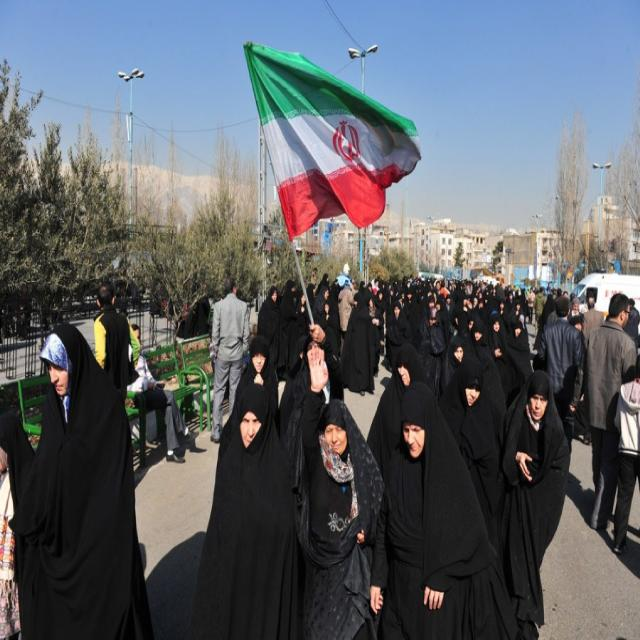body: (7, 316, 157, 639), (369, 381, 488, 640), (186, 380, 298, 639), (291, 396, 388, 639), (498, 367, 572, 630), (584, 291, 639, 535), (439, 355, 501, 552), (126, 322, 198, 464), (367, 343, 427, 485), (538, 294, 585, 455), (276, 331, 311, 542), (209, 276, 251, 446), (93, 281, 142, 403), (227, 334, 281, 444), (612, 352, 640, 554), (0, 444, 21, 640), (359, 271, 470, 307), (301, 324, 345, 406), (413, 303, 446, 402), (345, 290, 374, 394), (568, 314, 590, 446), (506, 318, 533, 412), (469, 278, 526, 318), (256, 284, 280, 375), (489, 310, 511, 404), (471, 318, 495, 396), (277, 277, 298, 366), (336, 277, 356, 362), (439, 337, 468, 392), (368, 294, 386, 378), (442, 334, 465, 390), (581, 296, 605, 340), (310, 284, 331, 330), (623, 297, 640, 349), (454, 298, 470, 338), (540, 293, 558, 328), (533, 286, 547, 324), (386, 300, 404, 329), (302, 281, 316, 317), (336, 262, 354, 290), (314, 271, 330, 298), (545, 285, 577, 297), (295, 292, 308, 318), (568, 296, 583, 317), (526, 286, 534, 325), (445, 293, 454, 313), (310, 266, 318, 286), (404, 288, 414, 304)
